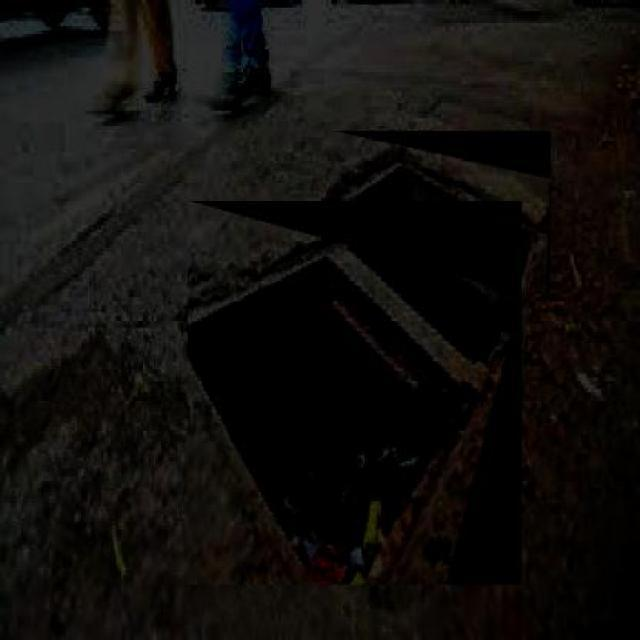Open Manhole: (188, 200, 522, 585), (335, 130, 551, 292)
